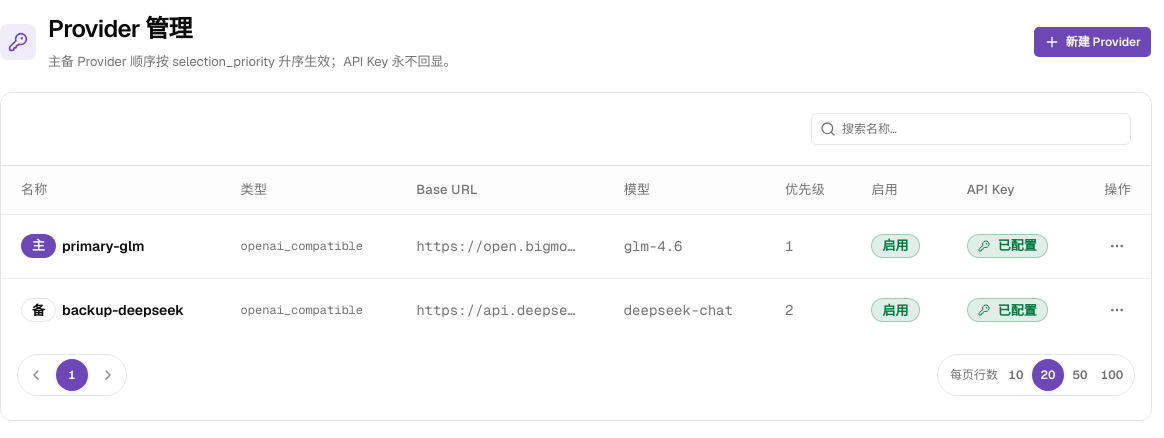
admin table search (§18.37) › providers: filters by name, base url and model
Expected: the heading "Provider 管理" is shown, [48,13,192,44]
Expected: the row with test id "provider-row-" is shown, [1,214,1151,278]
Type "backup" into the field with test id "admin-providers-search".
click(983, 129); type("backup")  # box [836,113,1130,145]
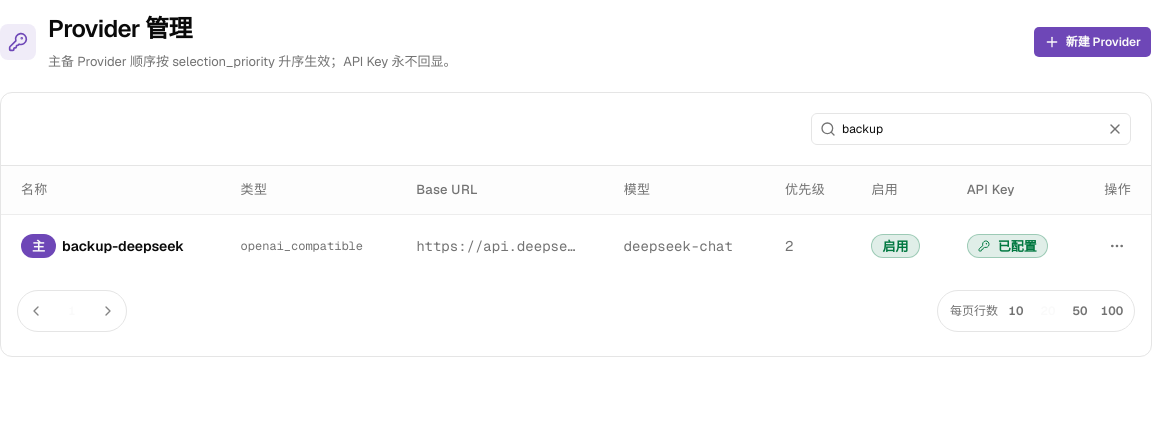
Replace the text in the field with test id "admin-providers-search" with "glm" at (969, 129), box [836,113,1103,145]
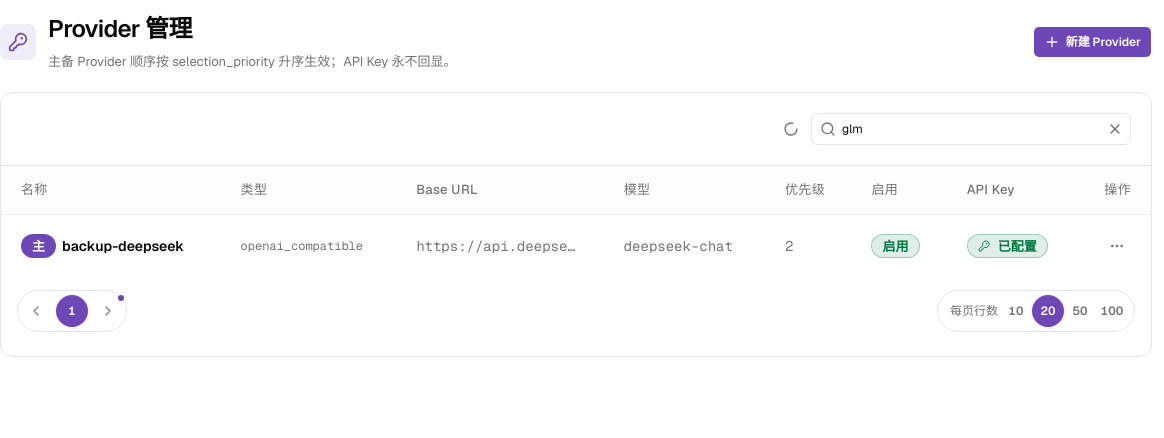
Replace the text in the field with test id "admin-providers-search" with "不存在" at (969, 129), box [836,113,1103,145]
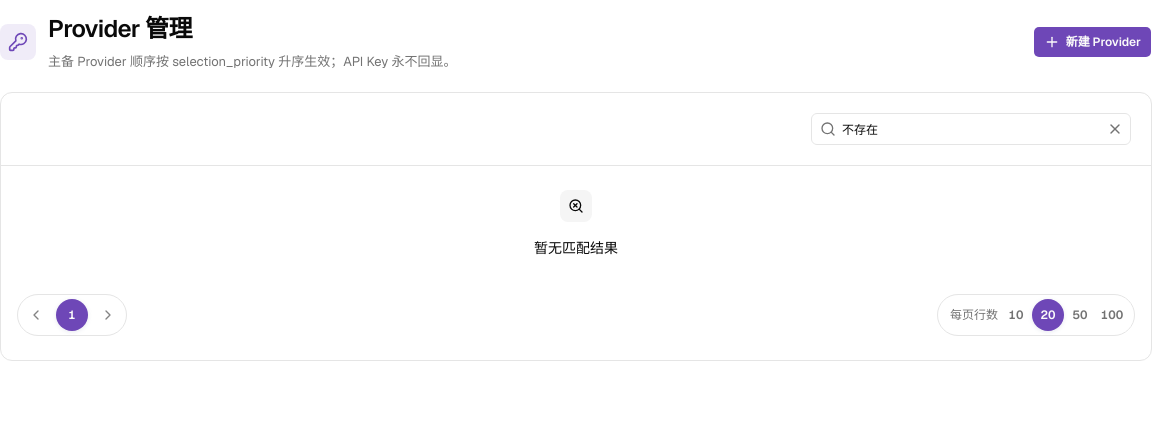
Expected: the element with test id "admin-providers-search-empty" is shown, [534,190,618,257]
